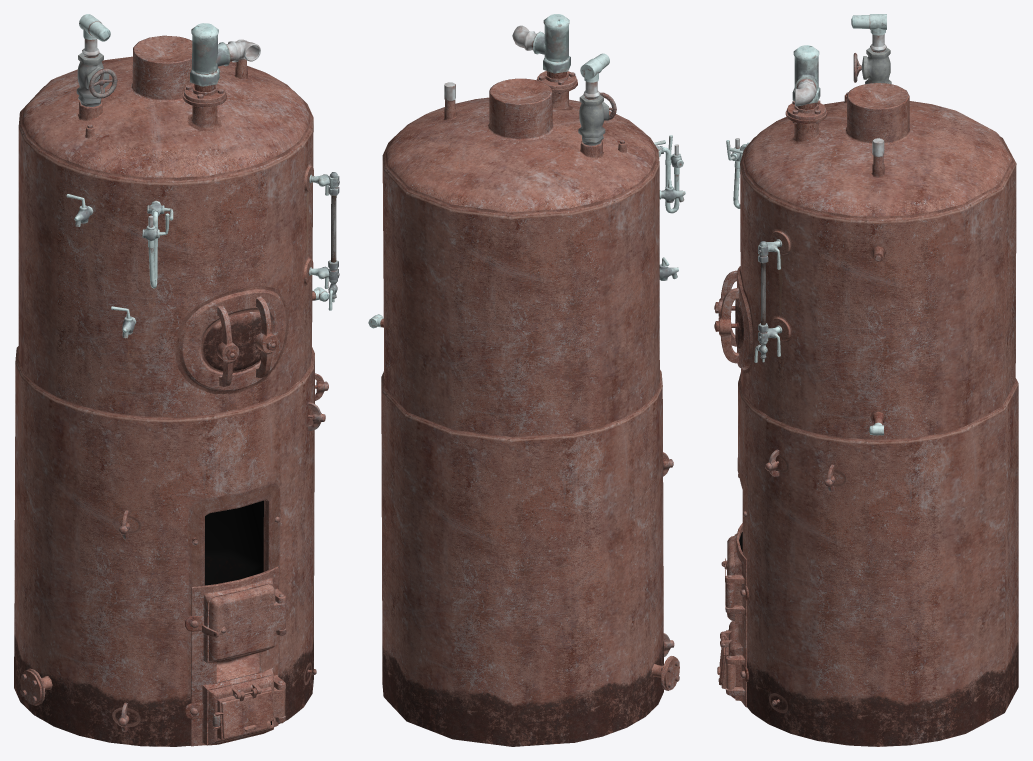
Rendered from boilerweighted_normalstrimsdecals.glb.
3 views of the same model, side by side, from view 1: azimuth 30°, elevation 25°; view 2: azimuth 150°, elevation 25°; view 3: azimuth 270°, elevation 25° (orthographic). The views are drawn at different scales.
Visible parts, largest first — view 1: Boiler, Boiler_Decals, Boiler_Objects; view 2: Boiler, Boiler_Decals, Boiler_Objects; view 3: Boiler, Boiler_Decals, Boiler_Objects.
Part boxes in pixels (x1=…): Boiler: x1=14, y1=35, x2=317, y2=746; Boiler_Decals: x1=14, y1=86, x2=314, y2=746; Boiler_Objects: x1=21, y1=14, x2=339, y2=731; Boiler: x1=380, y1=71, x2=679, y2=746; Boiler_Decals: x1=381, y1=106, x2=663, y2=746; Boiler_Objects: x1=368, y1=14, x2=685, y2=687; Boiler: x1=715, y1=83, x2=1018, y2=746; Boiler_Decals: x1=723, y1=130, x2=1018, y2=746; Boiler_Objects: x1=714, y1=14, x2=891, y2=705.
Bounding box in the file's own units: 1.19 × 2.5 × 1.08.
Materials: 3 (3 with a texture image).
